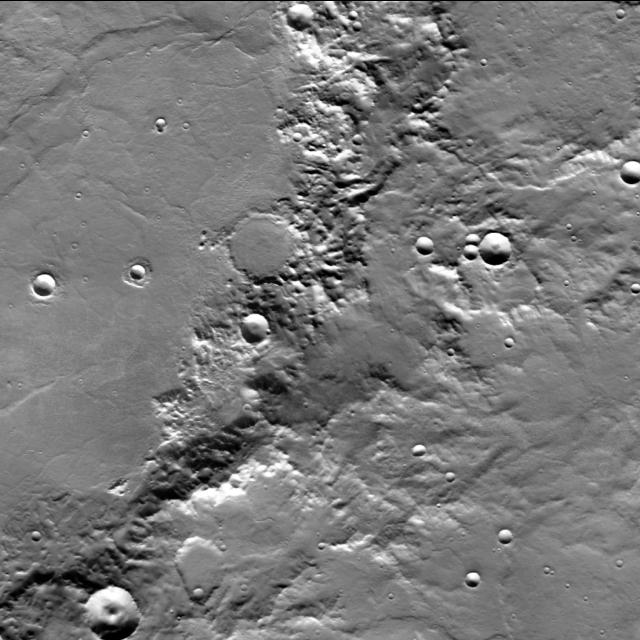crater: (232, 205, 304, 277), (456, 308, 519, 372), (88, 580, 142, 634), (176, 539, 226, 590), (478, 232, 511, 264), (240, 314, 270, 342), (288, 3, 314, 26), (34, 274, 55, 296), (622, 161, 640, 185), (417, 234, 436, 253), (464, 571, 480, 586), (468, 229, 483, 245), (498, 528, 513, 543), (464, 244, 480, 258), (130, 264, 145, 278), (192, 586, 204, 599), (156, 115, 168, 126), (351, 132, 362, 144), (414, 443, 424, 454), (504, 337, 514, 347), (32, 530, 42, 540), (447, 471, 457, 481), (292, 131, 302, 141), (349, 9, 359, 19), (352, 20, 362, 30), (632, 282, 640, 292), (616, 10, 624, 18), (240, 583, 248, 591), (317, 542, 325, 550), (466, 137, 474, 145), (446, 348, 454, 356), (615, 559, 623, 567), (156, 124, 163, 131), (481, 58, 488, 65), (78, 130, 85, 136), (183, 122, 190, 128), (221, 544, 227, 550), (244, 402, 250, 408)
